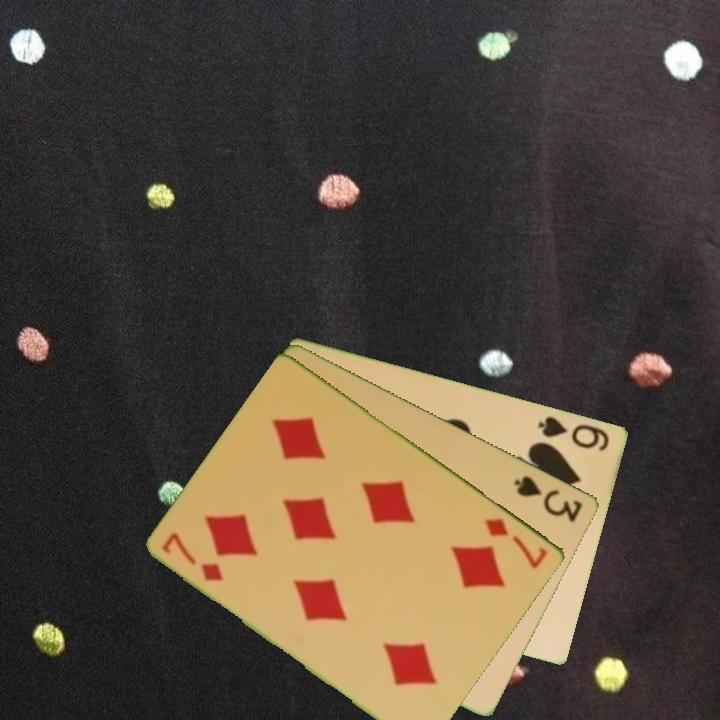3s: (511, 472, 586, 525)
6s: (535, 412, 613, 454)
7d: (481, 514, 551, 572), (159, 529, 227, 585)
